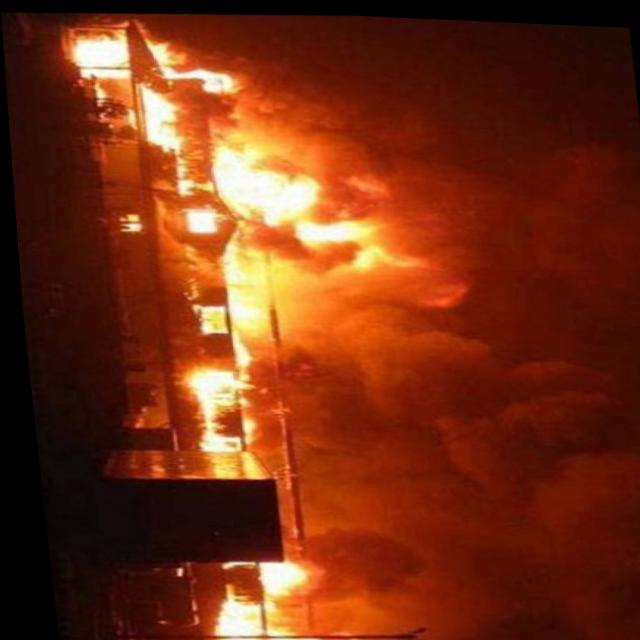Fire: (218, 127, 414, 282), (180, 546, 400, 640), (157, 48, 240, 102), (254, 549, 317, 598), (136, 86, 176, 146), (225, 282, 294, 316), (190, 364, 233, 407), (205, 603, 254, 640), (192, 410, 233, 454), (76, 37, 123, 75), (103, 201, 147, 241), (261, 616, 333, 640), (180, 197, 217, 239), (226, 330, 249, 369)
